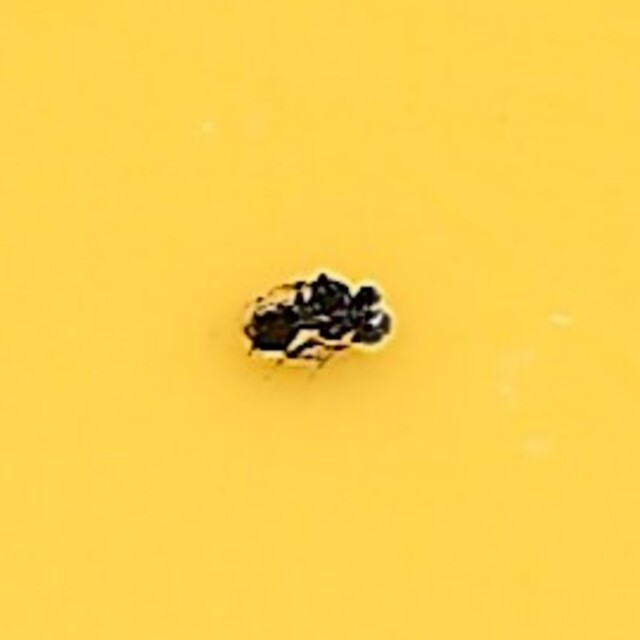Brachycera: (237, 266, 403, 374)
